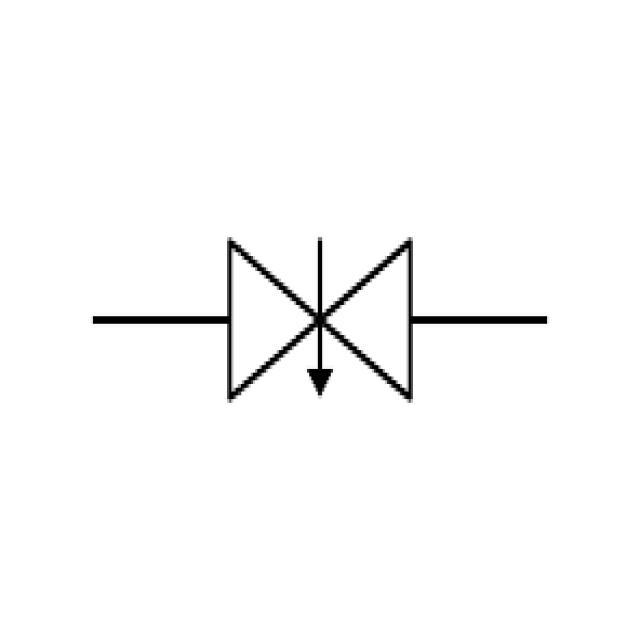Needle Valve: (190, 144, 446, 511)
